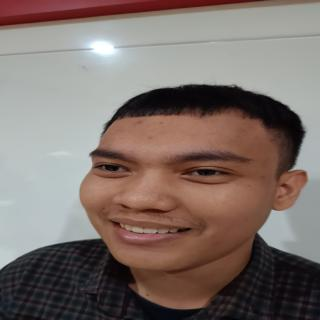Senang: (73, 96, 286, 278)
